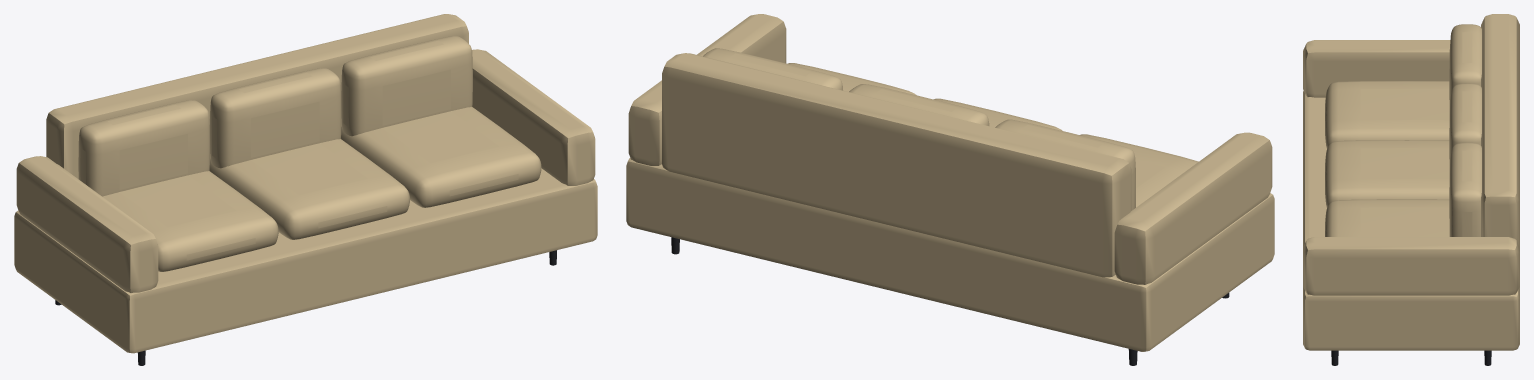
Rendered from sofa-3seat.glb.
3 renders of one model, left to right at view 1: azimuth 30°, elevation 25°; view 2: azimuth 150°, elevation 25°; view 3: azimuth 270°, elevation 25°, orthographic. The views are drawn at different scales.
Parts seen in each view (by area): view 1: sofa-3seat; view 2: sofa-3seat; view 3: sofa-3seat.
Boxes of the visible parts, x1,y1,x2,y2 form: sofa-3seat: [14, 14, 597, 365]; sofa-3seat: [626, 14, 1274, 365]; sofa-3seat: [1303, 14, 1519, 365].
Bounding box in the file's own units: 2.2 × 0.82 × 0.95.
